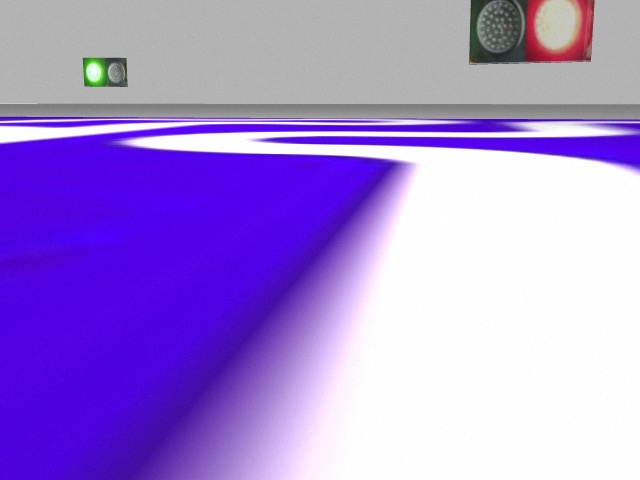red: (526, 2, 593, 64)
